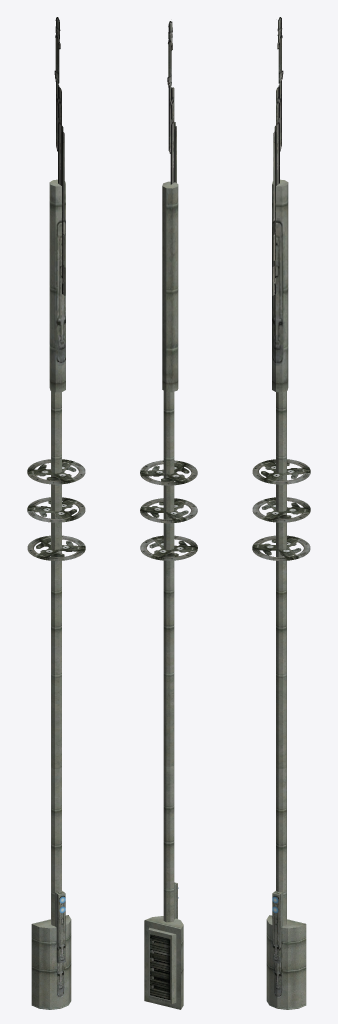
Rendered from thm_corl_power_arial_thin_l0.fbx.
3 renders of one model, left to right at view 1: azimuth 30°, elevation 25°; view 2: azimuth 150°, elevation 25°; view 3: azimuth 330°, elevation 25°, orthographic.
Parts seen in each view (by area): view 1: mesh_node; view 2: mesh_node; view 3: mesh_node.
Part boxes in pixels (box(x1,y1,x2,y2)): mesh_node: box(27, 17, 85, 1009); mesh_node: box(140, 21, 197, 1009); mesh_node: box(252, 17, 310, 1009).
Bounding box in the file's own units: 0.7343 × 12.98 × 0.7343.
